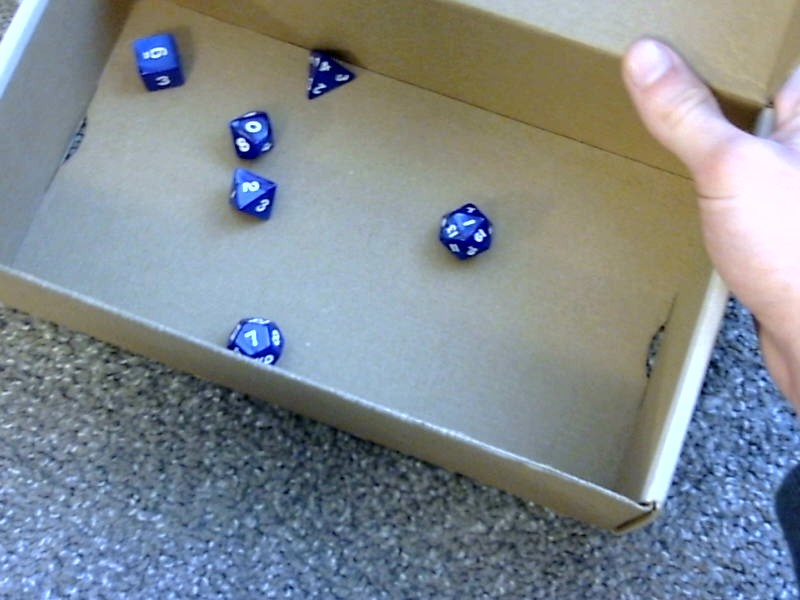d10 10: (225, 108, 277, 163)
d12 7: (221, 312, 286, 372)
d20 1: (433, 197, 495, 262)
d4 4: (301, 46, 356, 103)
d6 6: (129, 29, 187, 96)
d8 2: (226, 169, 276, 221)
